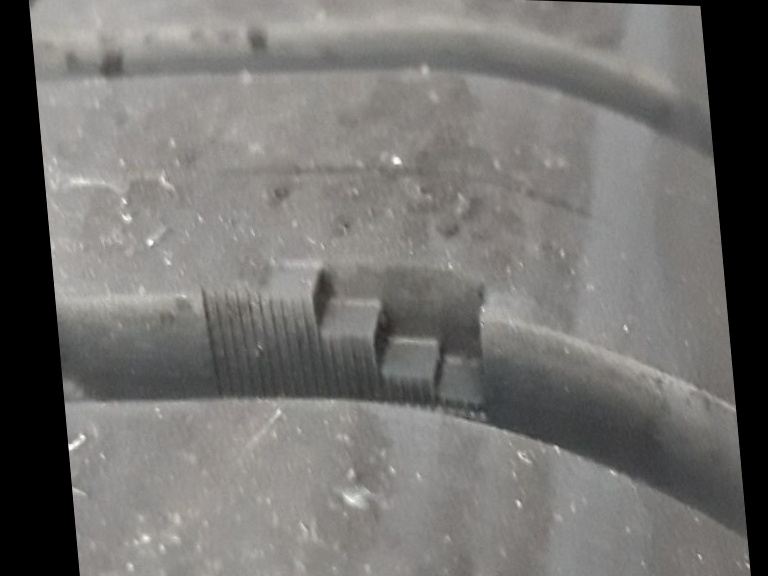temoin:75: (241, 242, 514, 436)
